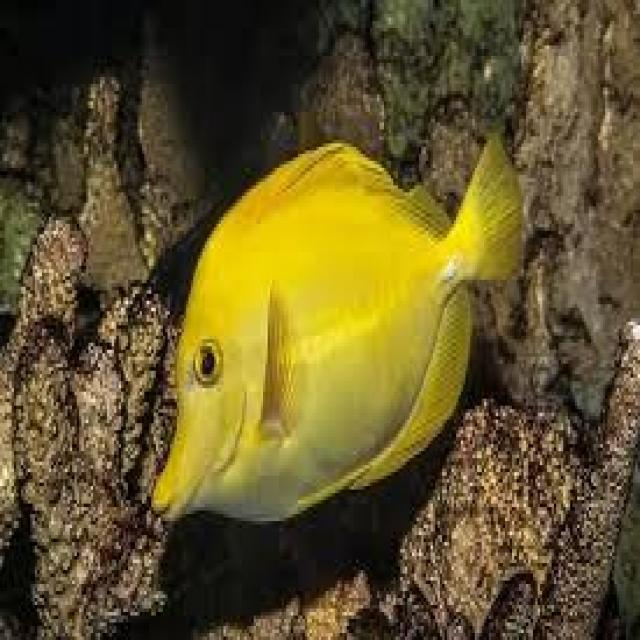YellowTang: (141, 109, 534, 549)
